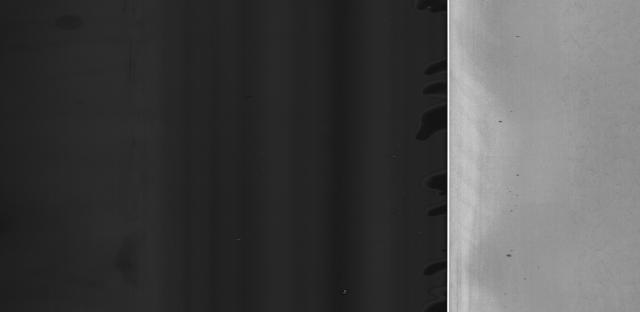inclusion: (496, 109, 516, 127), (502, 251, 518, 266)
silk_spot: (558, 17, 640, 297)
